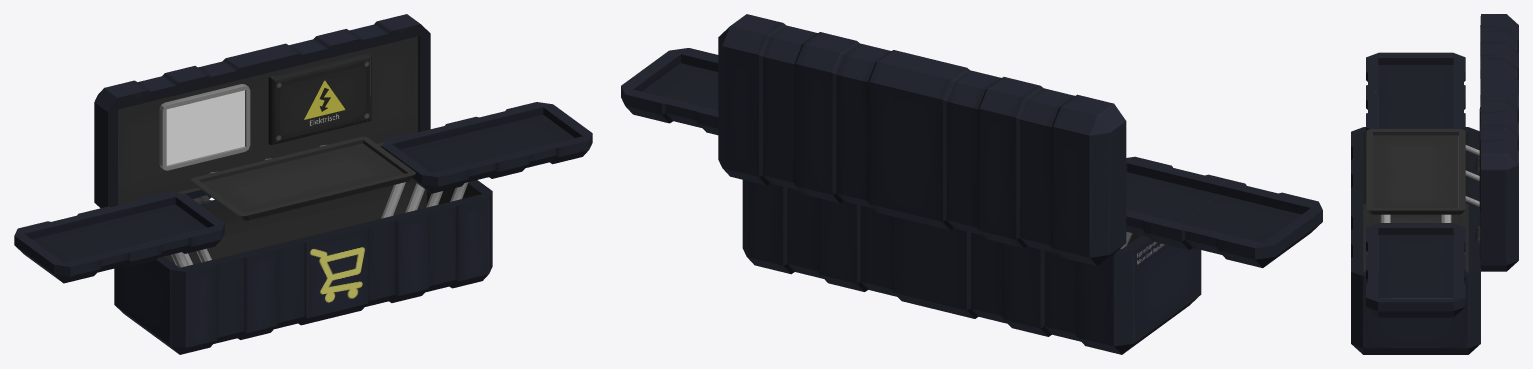
The model's file is BuyStation.fbx.
The picture shows the model from 3 angles, left to right: view 1: azimuth 30°, elevation 25°; view 2: azimuth 150°, elevation 25°; view 3: azimuth 270°, elevation 25°; orthographic projection. The views are drawn at different scales.
Visible parts, largest first — view 1: Crate, Lid; view 2: Lid, Crate; view 3: Crate, Lid.
Boxes of the visible parts, box(x1,y1,x2,y2) form: Crate: box(14, 102, 592, 354); Lid: box(94, 14, 430, 220); Lid: box(718, 14, 1126, 266); Crate: box(621, 48, 1322, 354); Crate: box(1351, 52, 1480, 354); Lid: box(1366, 14, 1518, 271).
Size of the model in its own units: 254 by 95.34 by 72.22.
Materials: 3 (2 with a texture image).
